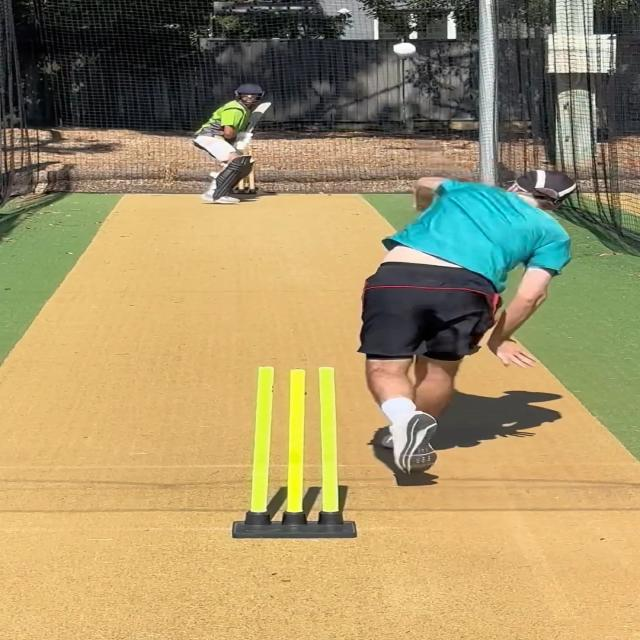ball: (390, 39, 420, 59)
stump: (230, 363, 356, 541)
